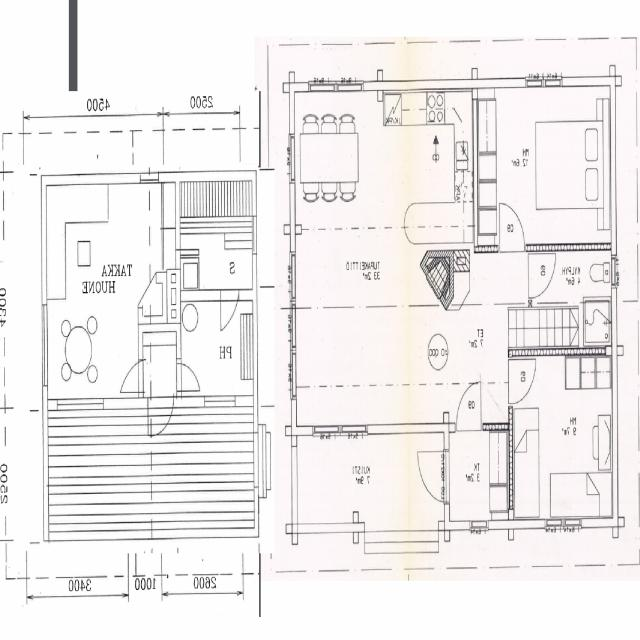door: (416, 451, 449, 501), (148, 399, 174, 456), (457, 379, 482, 432), (500, 201, 525, 252), (509, 359, 537, 403), (528, 254, 556, 296), (220, 290, 240, 335), (176, 358, 200, 392), (121, 360, 143, 392)
